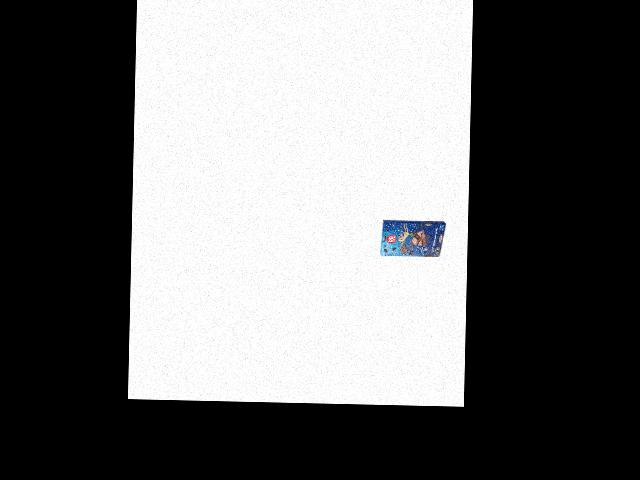chocolate: (378, 215, 446, 262)
